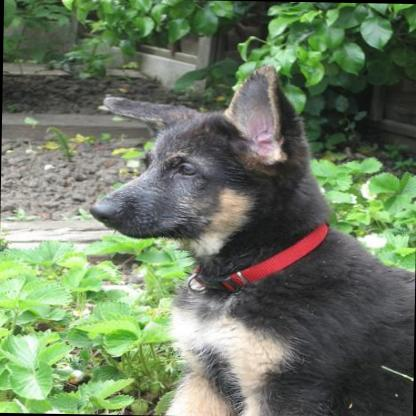German_shepherd: (76, 57, 414, 416)
